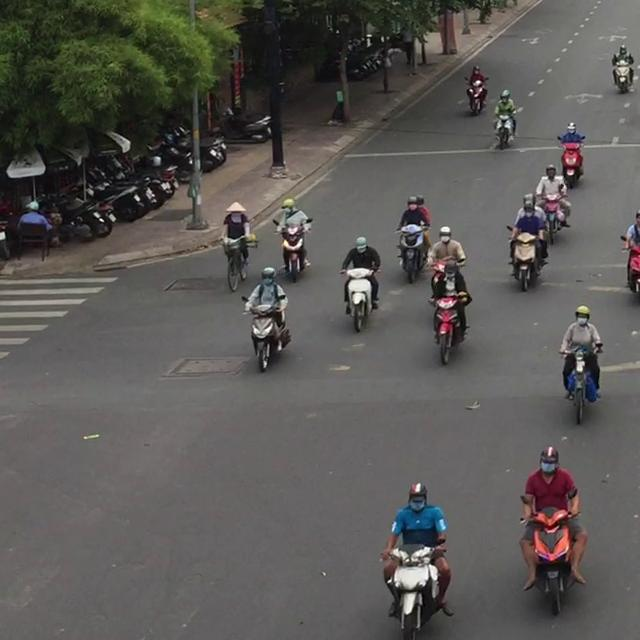Motorcycle: (518, 496, 583, 616), (379, 538, 451, 639), (241, 293, 291, 372), (559, 344, 603, 425), (427, 291, 471, 365), (505, 224, 546, 292), (339, 265, 380, 332), (272, 217, 312, 283), (394, 223, 430, 284), (556, 134, 586, 188), (493, 107, 518, 150), (463, 76, 489, 115), (611, 53, 634, 93)
